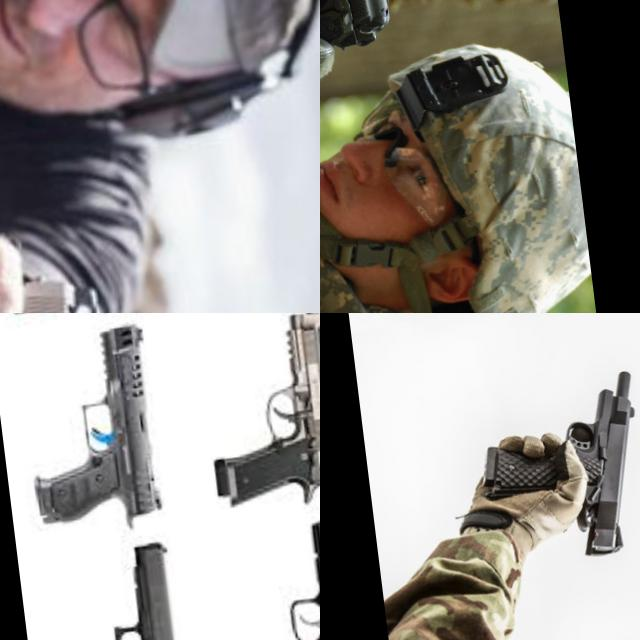handgun: (10, 320, 168, 544), (192, 313, 320, 517), (549, 366, 640, 563), (41, 537, 192, 640), (0, 313, 145, 419), (167, 313, 320, 412), (216, 509, 320, 640), (481, 313, 605, 379), (320, 0, 395, 96)
